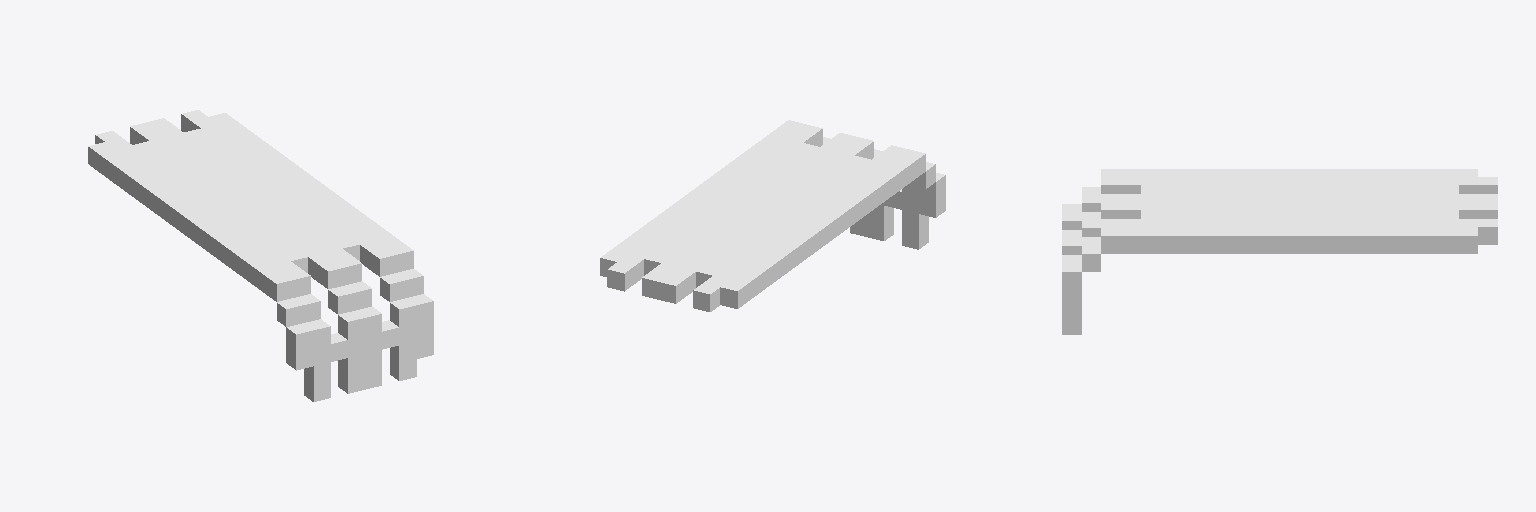
The model's file is Other-2.obj.
The picture shows the model from 3 angles: view 1: azimuth 30°, elevation 25°; view 2: azimuth 150°, elevation 25°; view 3: azimuth 270°, elevation 25°; orthographic projection.
Visible parts, largest first — view 1: object 1; view 2: object 1; view 3: object 1.
Part boxes in pixels (x1,y1,x2,y2): object 1: (88, 110, 433, 401); object 1: (600, 120, 945, 311); object 1: (1062, 169, 1497, 334).
Size of the model in its own units: 0.8 by 0.6 by 2.2.